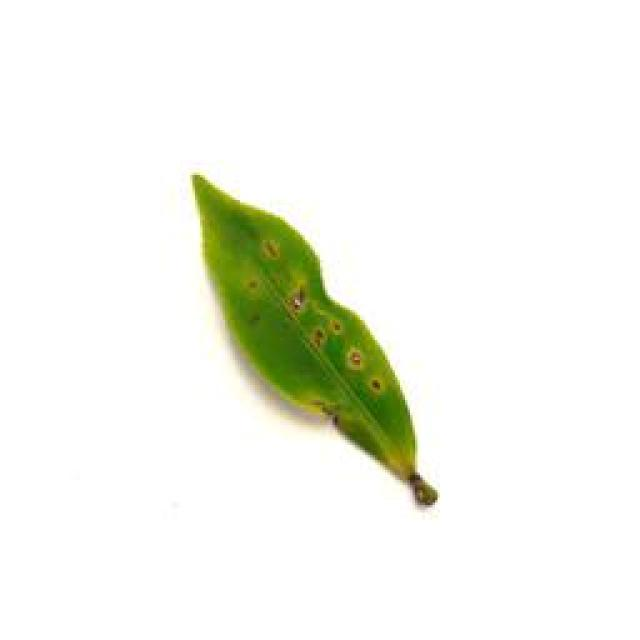Helopeltis: (183, 162, 438, 506)
